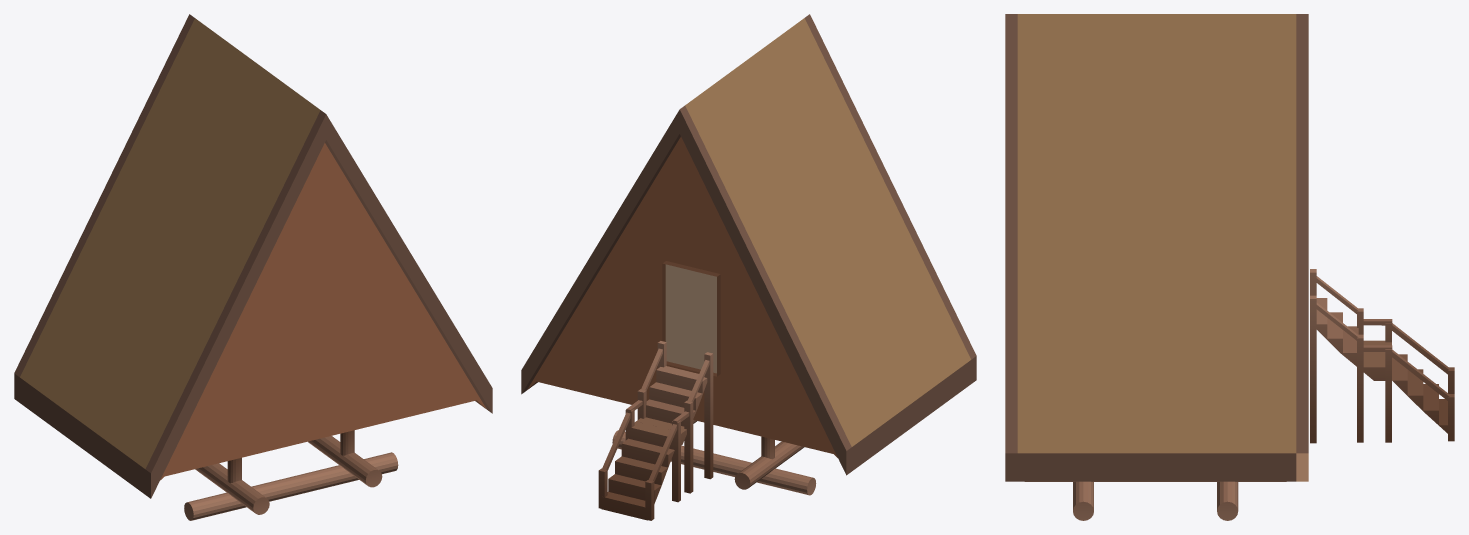
File: Rumah adat 2 color fix  heh.fbx
The picture shows the model from 3 angles, left to right: view 1: azimuth 30°, elevation 25°; view 2: azimuth 150°, elevation 25°; view 3: azimuth 270°, elevation 25°; orthographic projection. The views are drawn at different scales.
Parts seen in each view (by area): view 1: Cube.060, Cylinder.042; view 2: Cube.060, Cube.002, Cube.001, Cylinder.042; view 3: Cube.060, Cube.002, Cylinder.042.
Part boxes in pixels (box(x1,y1,x2,y2)): Cube.060: box(14, 14, 492, 498); Cylinder.042: box(184, 430, 398, 520); Cube.060: box(521, 14, 976, 475); Cube.002: box(598, 341, 713, 520); Cube.001: box(662, 261, 720, 376); Cylinder.042: box(612, 420, 816, 495); Cube.060: box(1005, 14, 1308, 481); Cube.002: box(1310, 269, 1454, 443); Cylinder.042: box(1025, 481, 1286, 520).
Bounding box in the file's own units: 1397 × 1590 × 1435.
